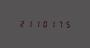five: (65, 20, 72, 28)
one: (25, 19, 32, 27), (33, 19, 40, 27), (49, 20, 56, 28)
seven: (57, 20, 64, 28)
two: (17, 19, 24, 27)
zero: (41, 19, 48, 28)
